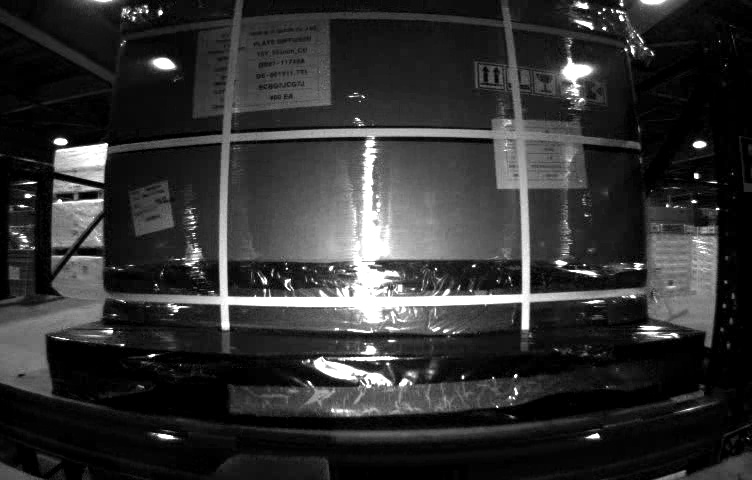True Barcode: (128, 179, 178, 235)
